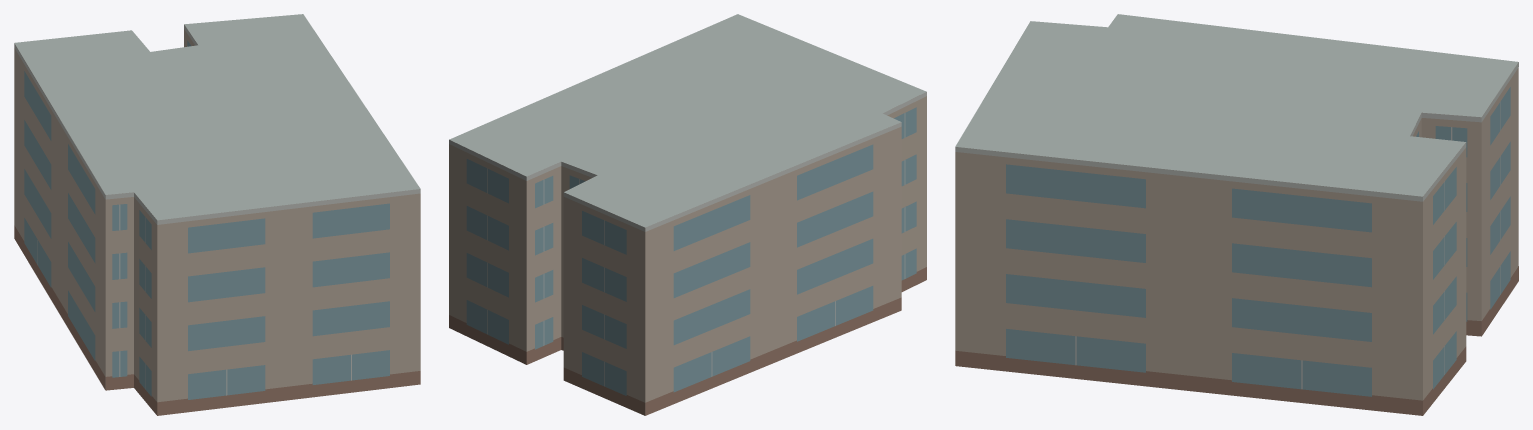
The model's file is survey-upis-32686281.glb.
3 renders of one model, left to right at view 1: azimuth 30°, elevation 25°; view 2: azimuth 150°, elevation 25°; view 3: azimuth 270°, elevation 25°, orthographic. The views are drawn at different scales.
Parts seen in each view (by area): view 1: survey-upis-32686281.tmp; view 2: survey-upis-32686281.tmp; view 3: survey-upis-32686281.tmp.
Boxes of the visible parts, <box> form: survey-upis-32686281.tmp: <box>14,14,420,415</box>; survey-upis-32686281.tmp: <box>449,14,926,415</box>; survey-upis-32686281.tmp: <box>955,14,1518,415</box>.
Bounding box in the file's own units: 18.78 × 10.5 × 24.48.
